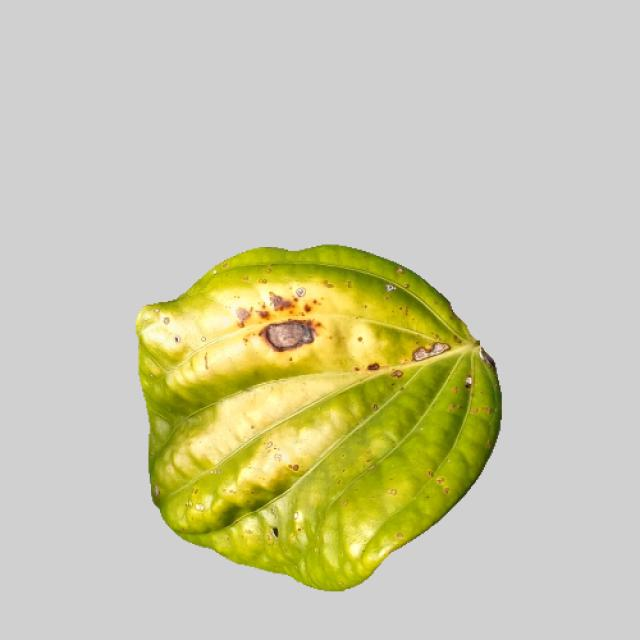leaf-blight: (131, 251, 499, 595)
